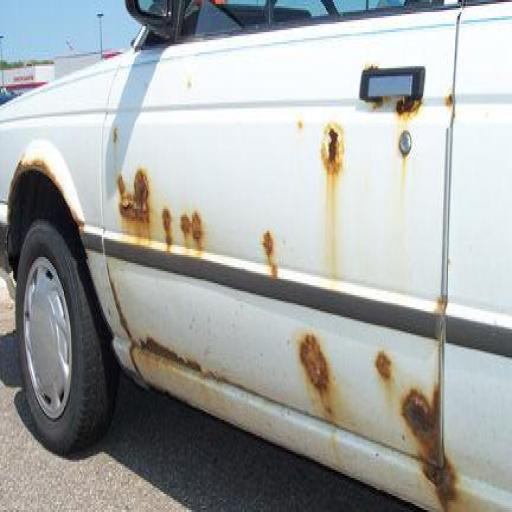corrosion: (397, 383, 461, 512), (291, 330, 346, 417), (0, 149, 53, 221), (138, 334, 199, 377), (119, 169, 149, 237), (180, 211, 203, 249), (260, 230, 278, 278), (375, 351, 391, 379), (328, 129, 338, 163), (396, 98, 420, 112), (162, 207, 171, 243)
